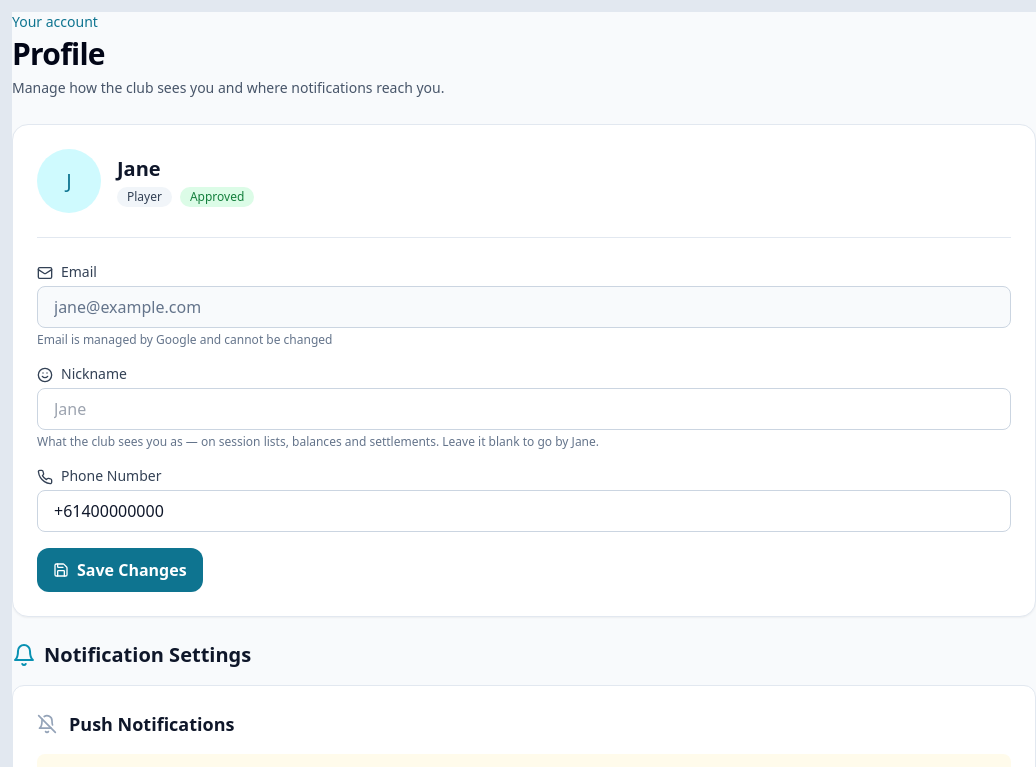
Profile page › saves an edited phone number and refreshes the session
Replace the text in the field showing "+61400000000" below "Phone Number" with "+61411111111" at (524, 511), box [37,490,1011,532]
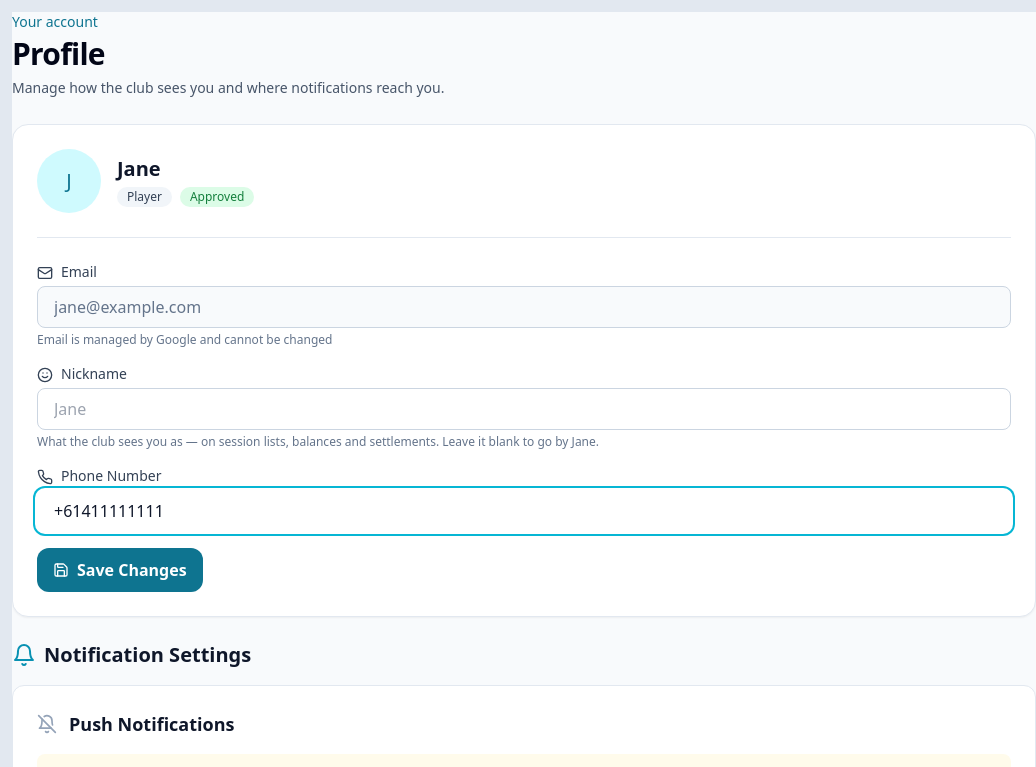
Click the button "Save Changes" at (120, 570), box [37,548,203,592]
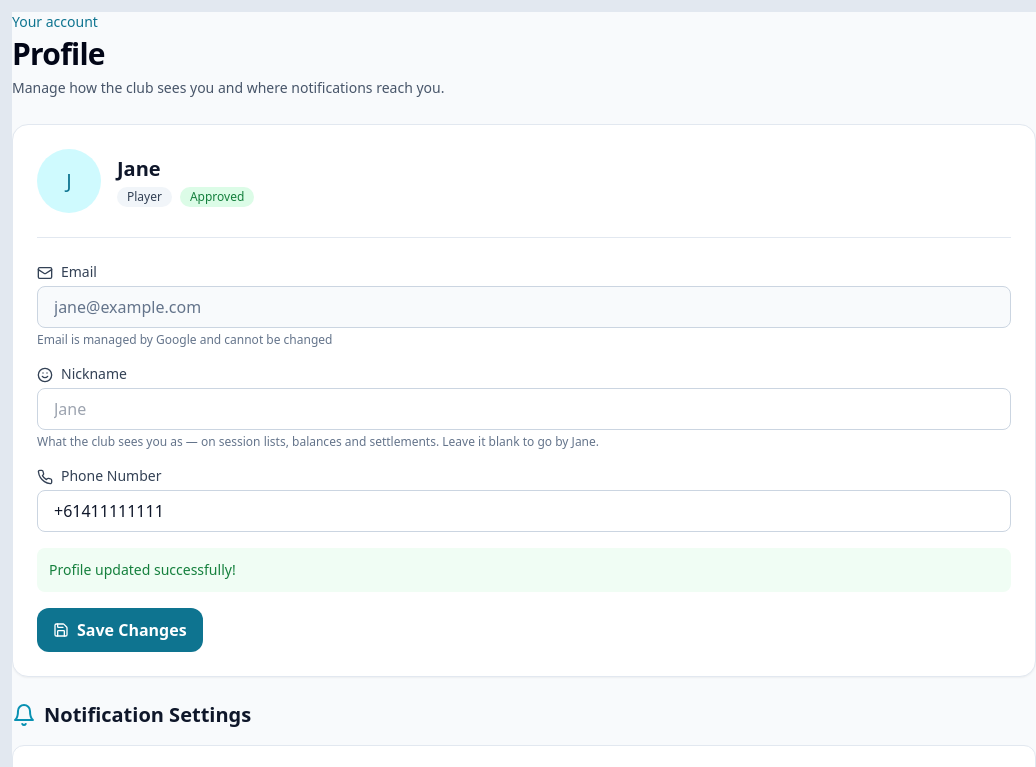
Now the text "Profile updated successfully!" is shown, box [37,548,1011,592]
